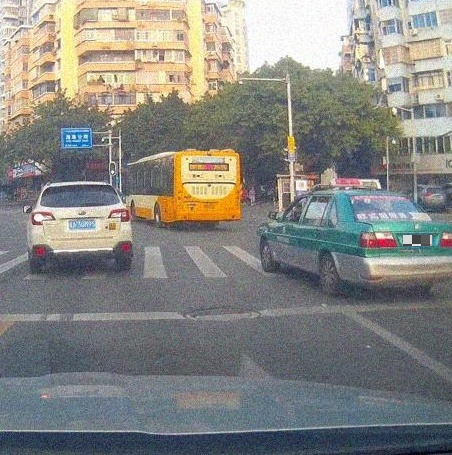L_light: (359, 231, 398, 248), (32, 212, 56, 225), (177, 188, 183, 204)
R_light: (108, 208, 130, 222), (439, 233, 452, 247), (235, 188, 240, 205)
T_light: (374, 195, 388, 199), (203, 156, 214, 160), (74, 185, 86, 188)
day-left: (27, 181, 133, 274)
day-no: (345, 190, 452, 295), (175, 151, 241, 227)
plate_1: (403, 235, 432, 246)
